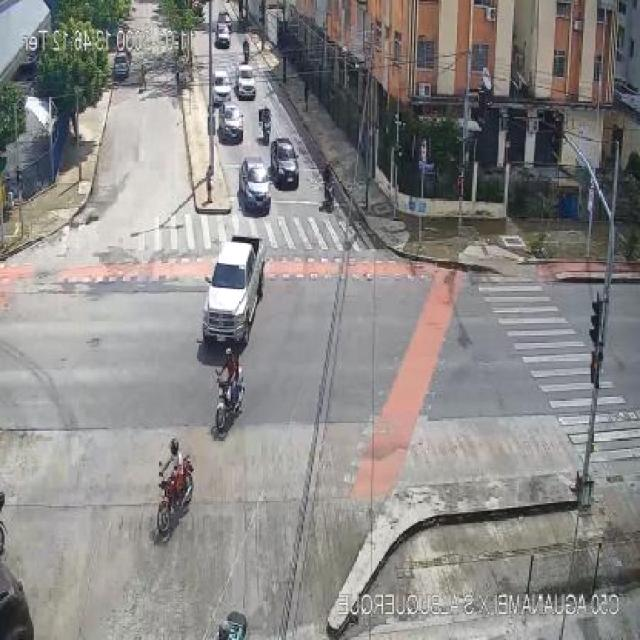Car: (239, 155, 274, 215), (269, 138, 299, 188), (216, 102, 245, 143), (236, 64, 258, 100), (213, 70, 233, 108), (112, 54, 130, 80), (215, 22, 232, 46)
Cycle: (156, 458, 196, 534), (215, 366, 246, 429), (321, 177, 338, 215), (259, 116, 272, 142)
Truck: (202, 235, 268, 344)
